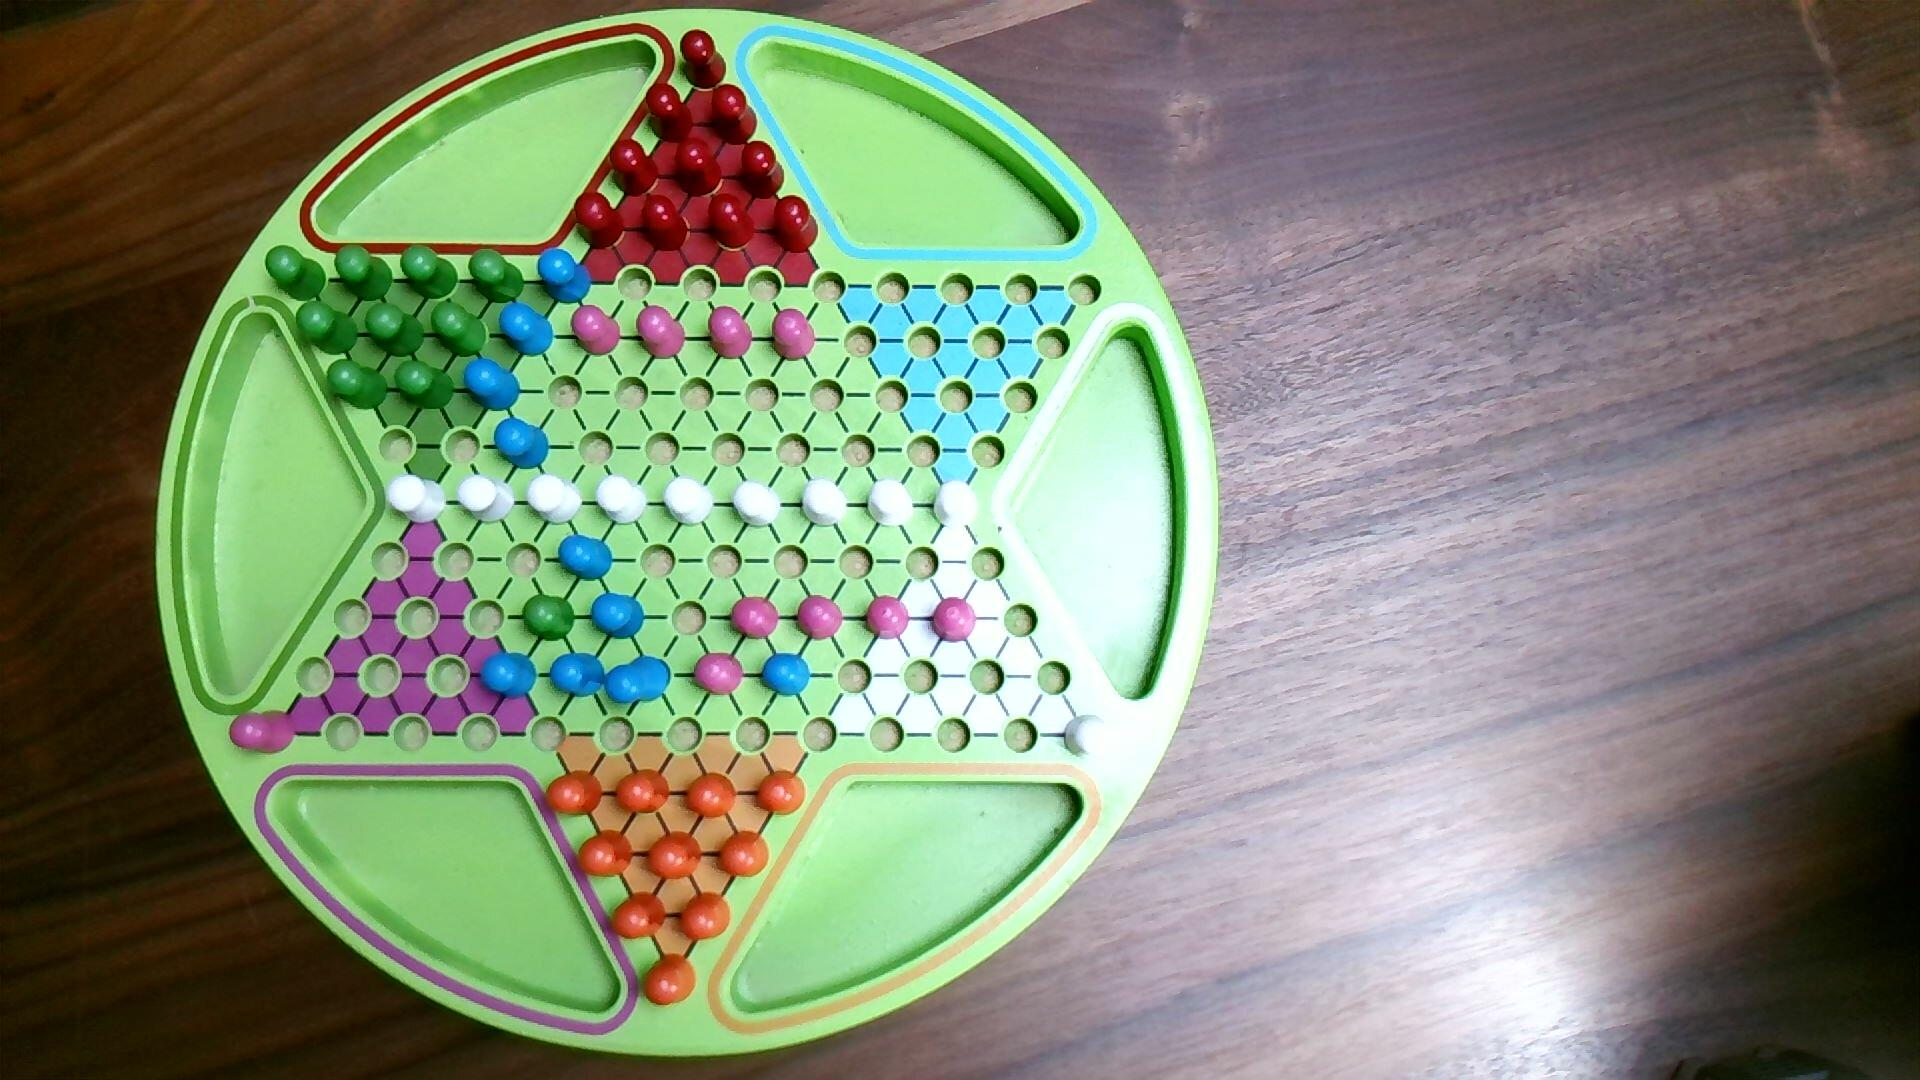B: (603, 655, 673, 708), (498, 301, 556, 359), (463, 357, 522, 414), (537, 247, 593, 306), (477, 649, 539, 700), (493, 417, 551, 471), (589, 592, 647, 642), (558, 534, 615, 584), (549, 651, 607, 700), (758, 651, 812, 699)
G: (265, 243, 328, 305), (295, 299, 363, 357), (334, 243, 396, 303), (364, 301, 429, 359), (430, 299, 491, 359), (400, 244, 462, 302), (326, 357, 390, 413), (468, 247, 527, 306), (394, 357, 458, 411), (521, 592, 578, 644)
O: (645, 829, 704, 884), (641, 953, 698, 1009), (575, 828, 636, 880), (611, 889, 669, 942), (545, 767, 605, 818), (615, 767, 673, 818), (680, 890, 733, 944), (716, 828, 771, 880), (754, 769, 808, 819), (683, 771, 738, 820)
R: (574, 190, 628, 253), (673, 136, 727, 199), (709, 82, 761, 148), (608, 136, 662, 198), (645, 80, 696, 145), (680, 26, 731, 92), (640, 193, 691, 255), (707, 190, 757, 252), (773, 193, 822, 255), (738, 138, 787, 200)
R2: (229, 709, 299, 757), (636, 303, 688, 363), (570, 303, 622, 359), (769, 307, 818, 364), (707, 305, 754, 363), (862, 593, 913, 644), (692, 651, 746, 698), (796, 593, 845, 644), (930, 595, 978, 645), (731, 595, 781, 642)
W: (526, 472, 585, 527), (458, 473, 518, 527), (386, 473, 448, 526), (595, 473, 649, 527), (663, 475, 716, 527), (866, 477, 918, 530), (932, 479, 982, 531), (800, 477, 851, 529), (732, 479, 783, 529), (1063, 713, 1114, 762)
